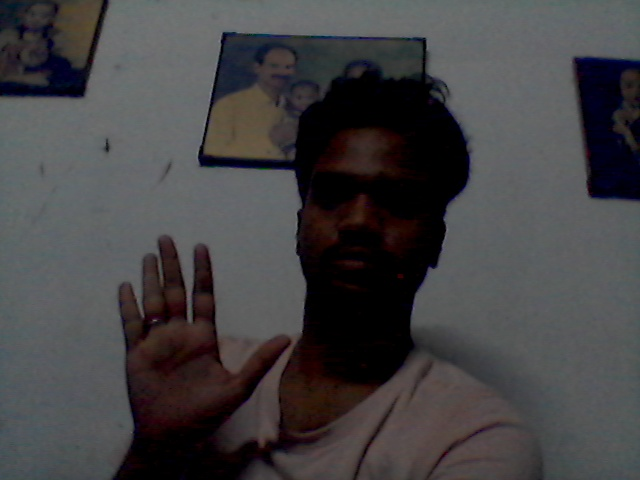Hi: (103, 228, 295, 440)
